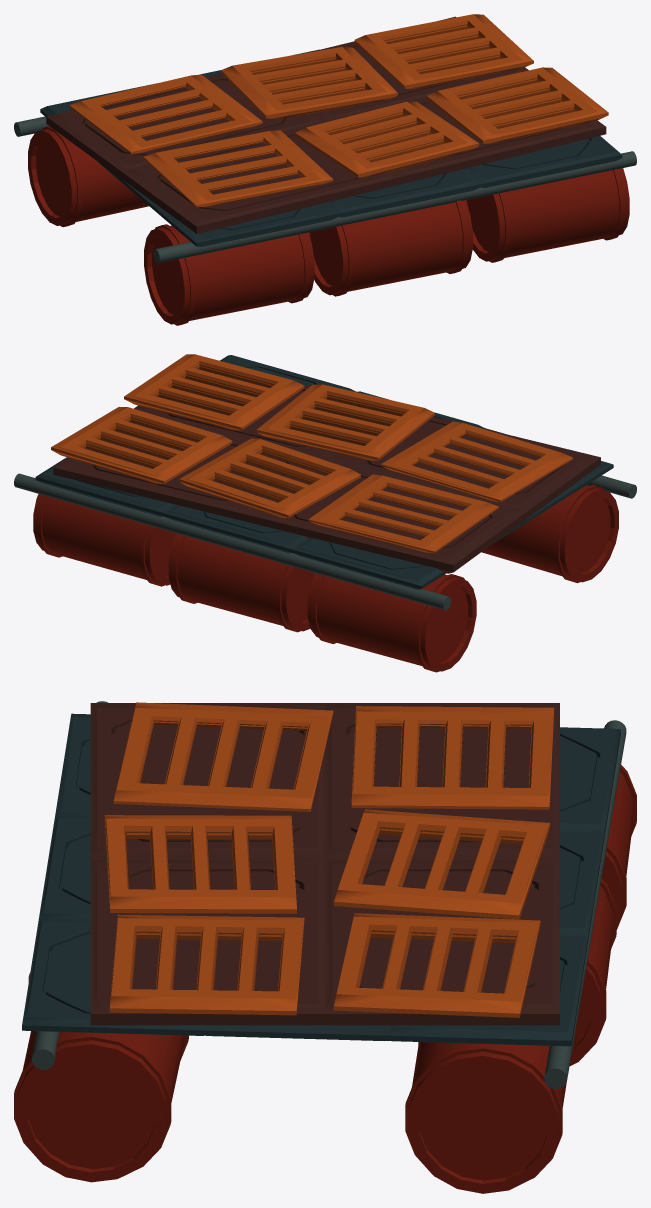
File: Platform03.fbx
The picture shows the model from 3 angles, top to bottom: view 1: azimuth 30°, elevation 25°; view 2: azimuth 150°, elevation 25°; view 3: azimuth 270°, elevation 25°; orthographic projection. The views are drawn at different scales.
Parts seen in each view (by area): view 1: Box002, Cylinder004, Cylinder006, Box009, Cylinder002, Box008, Box005, Box007, Box004, Box003, Box006, Cylinder003 (+2 smaller); view 2: Box002, Cylinder003, Box009, Cylinder005, Box004, Box005, Box008, Box007, Cylinder004, Cylinder001, Box006, Box003 (+2 smaller); view 3: Box002, Box009, Cylinder002, Cylinder001, Box003, Box006, Box007, Box008, Box004, Box005, Cylinder005, Cylinder003 (+2 smaller).
Boxes of the visible parts, x1,y1,x2,y2 form: Box002: (46,16,606,233); Cylinder004: (144,224,314,325); Cylinder006: (308,200,472,296); Box009: (40,49,622,247); Cylinder002: (466,168,629,262); Box008: (354,14,533,88); Box005: (426,67,608,143); Box007: (221,46,397,118); Box004: (295,101,479,177); Box003: (143,130,333,207); Box006: (69,74,262,153); Cylinder003: (28,126,148,227); Box002: (53,369,600,573); Cylinder003: (307,573,476,672); Box009: (35,355,613,589); Cylinder005: (168,533,315,632); Box004: (256,384,434,460); Box005: (124,354,304,430); Box008: (51,406,232,483); Box007: (179,438,360,517); Cylinder004: (481,485,618,583); Cylinder001: (33,494,175,586); Box006: (308,474,498,553); Box003: (381,421,572,501); Box002: (90,703,559,1025); Box009: (22,713,620,1046); Cylinder002: (14,1031,188,1182); Cylinder001: (405,1032,575,1193); Box003: (113,702,333,811); Box006: (351,706,554,809); Box007: (334,809,550,919); Box008: (333,913,540,1017); Box004: (104,815,296,913); Box005: (109,914,304,1015); Cylinder005: (570,878,616,1065); Cylinder003: (601,764,636,929).
Bounding box in the file's own units: 88.86 × 21.06 × 63.57.
